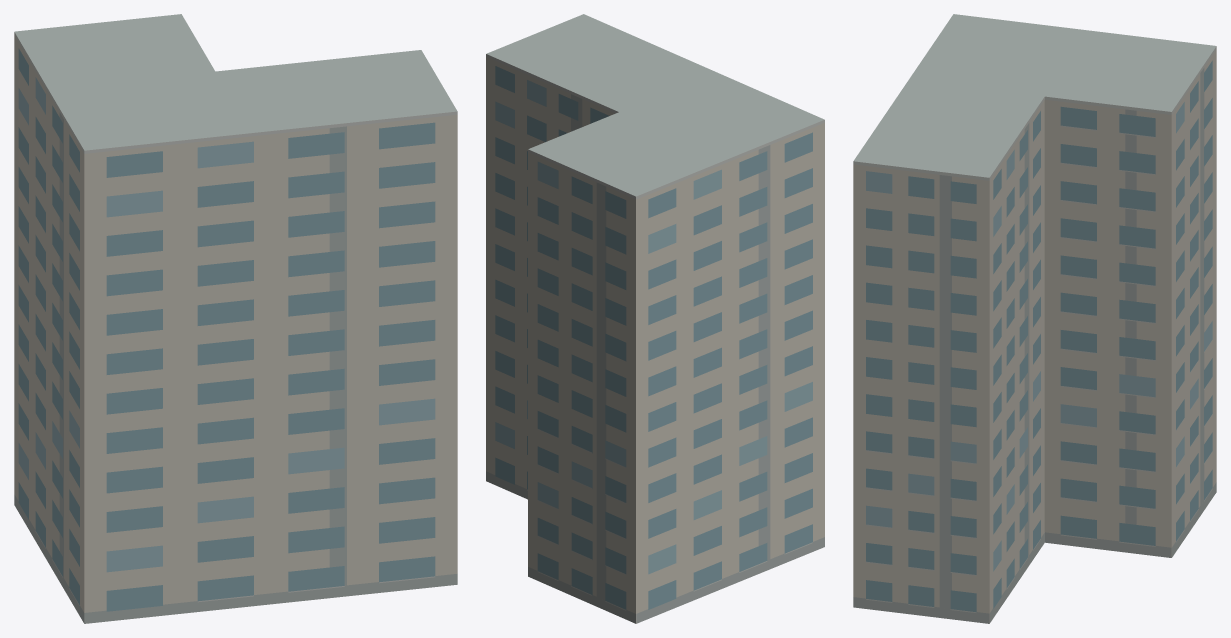
The model's file is residential-ec08ac91-155d-408a-b07b-cf076938b5cb.glb.
3 views of the same model, side by side, from view 1: azimuth 30°, elevation 25°; view 2: azimuth 150°, elevation 25°; view 3: azimuth 270°, elevation 25° (orthographic). The views are drawn at different scales.
Visible parts, largest first — view 1: residential-ec08ac91-155d-408a-b07b-cf076938b5cb.tmp; view 2: residential-ec08ac91-155d-408a-b07b-cf076938b5cb.tmp; view 3: residential-ec08ac91-155d-408a-b07b-cf076938b5cb.tmp.
Part boxes in pixels (x1,y1,x2,y2): residential-ec08ac91-155d-408a-b07b-cf076938b5cb.tmp: (14, 14, 457, 623); residential-ec08ac91-155d-408a-b07b-cf076938b5cb.tmp: (486, 14, 824, 623); residential-ec08ac91-155d-408a-b07b-cf076938b5cb.tmp: (853, 14, 1216, 623).
Size of the model in its own units: 27.57 by 35 by 25.85.
